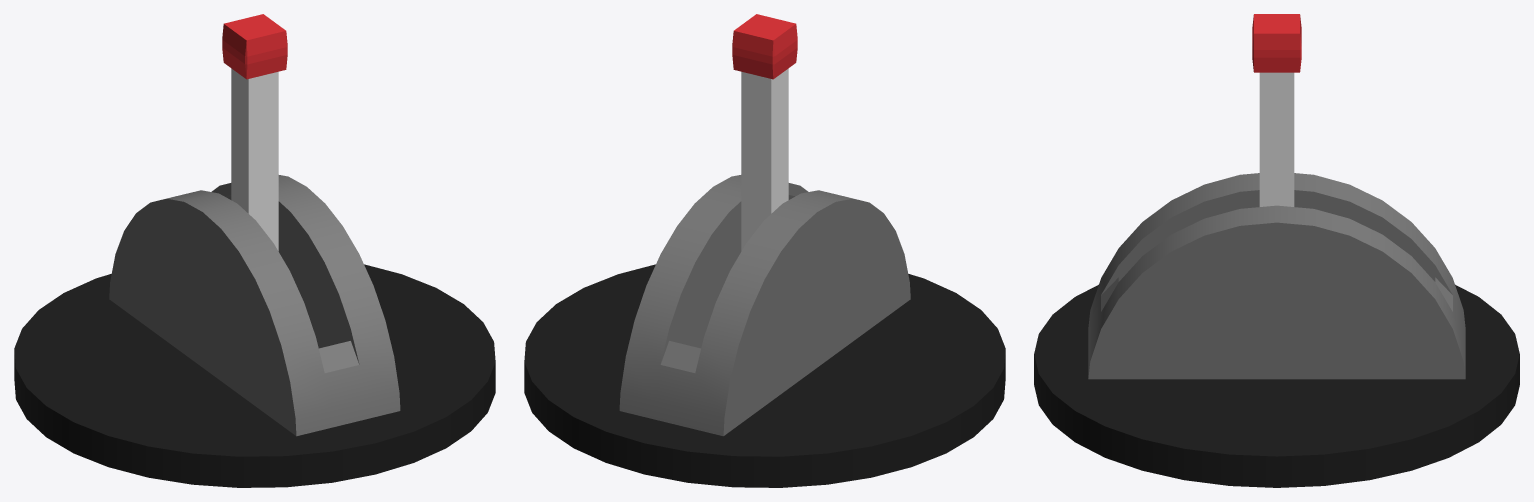
File: leverbase.fbx
3 renders of one model, left to right at view 1: azimuth 30°, elevation 25°; view 2: azimuth 150°, elevation 25°; view 3: azimuth 270°, elevation 25°, orthographic.
Visible parts, largest first — view 1: Cylinder, Circle, Cube, Cube.001; view 2: Cylinder, Circle, Cube, Cube.001; view 3: Circle, Cylinder, Cube, Cube.001.
Part boxes in pixels (bbox=[...]): Cylinder: bbox=[14, 264, 495, 487]; Circle: bbox=[109, 175, 400, 436]; Cube: bbox=[231, 68, 278, 250]; Cube.001: bbox=[222, 14, 287, 79]; Cylinder: bbox=[524, 264, 1005, 487]; Circle: bbox=[619, 175, 910, 436]; Cube: bbox=[741, 68, 788, 250]; Cube.001: bbox=[732, 14, 797, 79]; Circle: bbox=[1088, 173, 1465, 379]; Cylinder: bbox=[1034, 284, 1519, 487]; Cube: bbox=[1259, 72, 1294, 206]; Cube.001: bbox=[1252, 14, 1301, 72].
Size of the model in its own units: 70 by 57.5 by 70.
